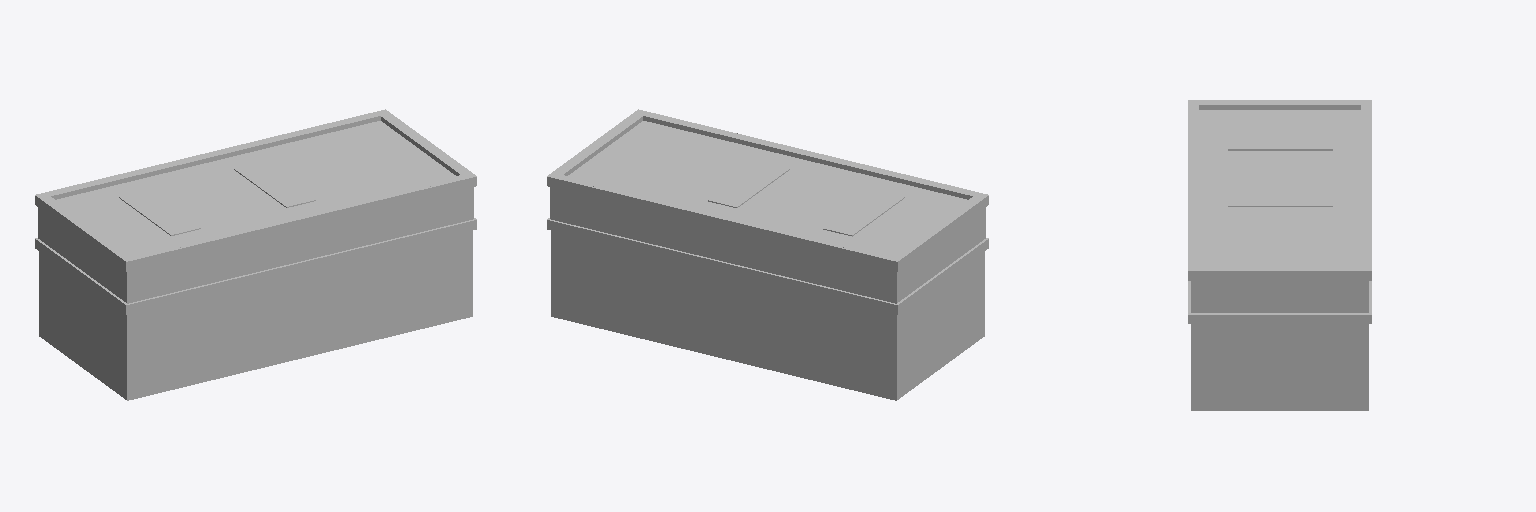
File: Building_Auto Service.obj
3 renders of one model, left to right at view 1: azimuth 30°, elevation 25°; view 2: azimuth 150°, elevation 25°; view 3: azimuth 270°, elevation 25°, orthographic.
Bounding box in the file's own units: 1827 × 700 × 826.